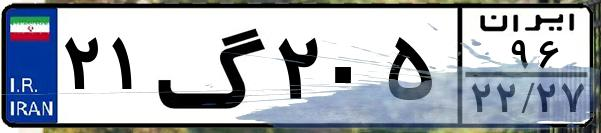0: (330, 28, 385, 110)
1: (110, 28, 156, 98)
2: (270, 28, 330, 110), (57, 26, 110, 100), (470, 70, 495, 125), (495, 70, 520, 125), (535, 70, 560, 125)
5: (385, 28, 445, 110)
6: (537, 27, 568, 80)
7: (560, 70, 590, 125)
9: (508, 27, 537, 80)
گ: (156, 12, 270, 120)
